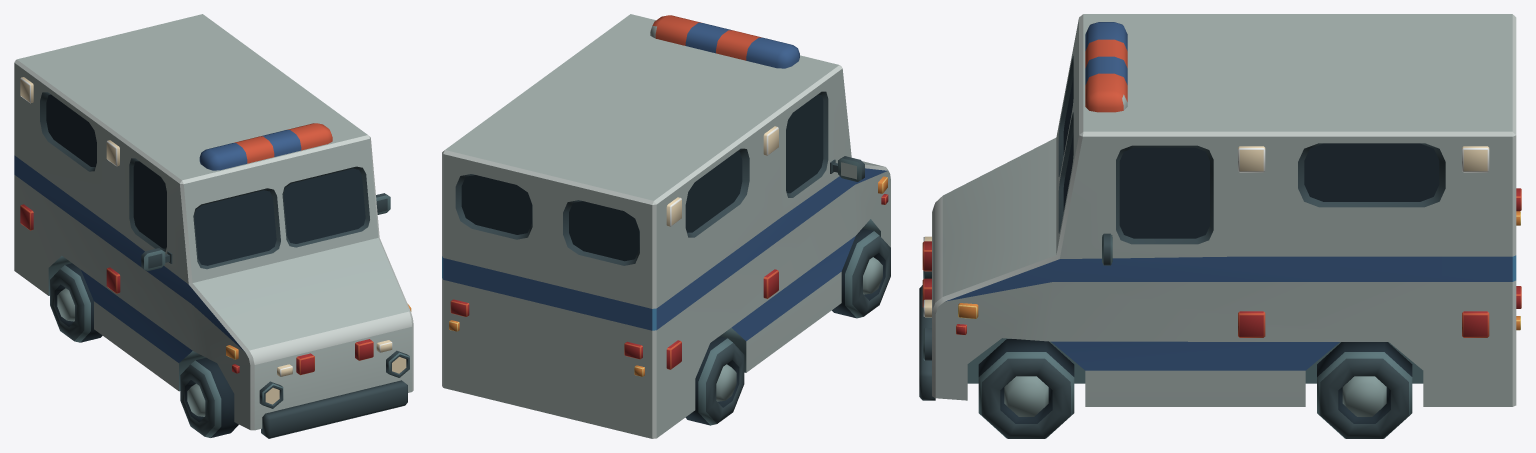
Rendered from PrisonTruck.fbx.
The picture shows the model from 3 angles, left to right: view 1: azimuth 30°, elevation 25°; view 2: azimuth 150°, elevation 25°; view 3: azimuth 270°, elevation 25°; orthographic projection. The views are drawn at different scales.
Parts seen in each view (by area): view 1: PrisonTruck; view 2: PrisonTruck; view 3: PrisonTruck.
Part boxes in pixels (x1=…): PrisonTruck: x1=14, y1=14, x2=413, y2=438; PrisonTruck: x1=442, y1=14, x2=890, y2=438; PrisonTruck: x1=919, y1=14, x2=1521, y2=438.
Size of the model in its own units: 236 by 227 by 385.
